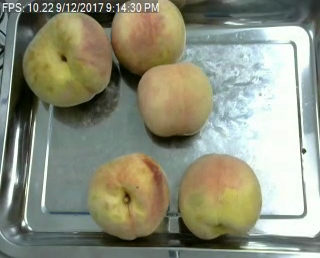Peach: (22, 10, 112, 107), (87, 151, 170, 240), (179, 152, 262, 241), (137, 60, 213, 138), (111, 0, 187, 73)
